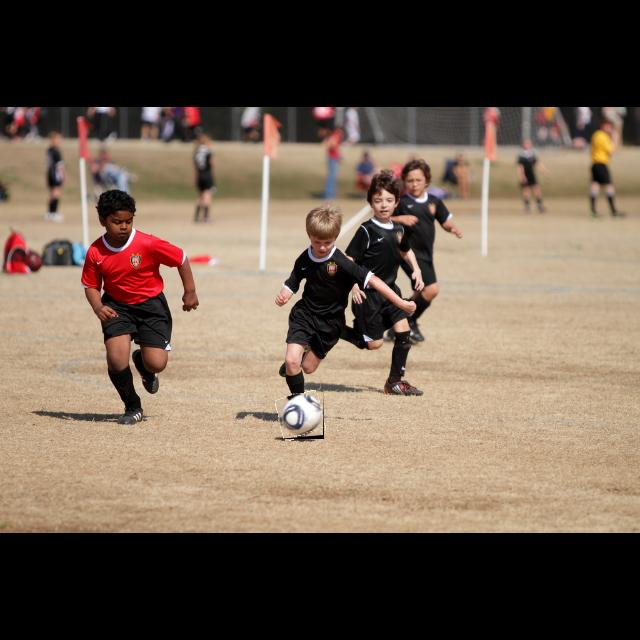Football: (278, 393, 324, 439)
